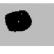correct: (4, 9, 38, 33)
